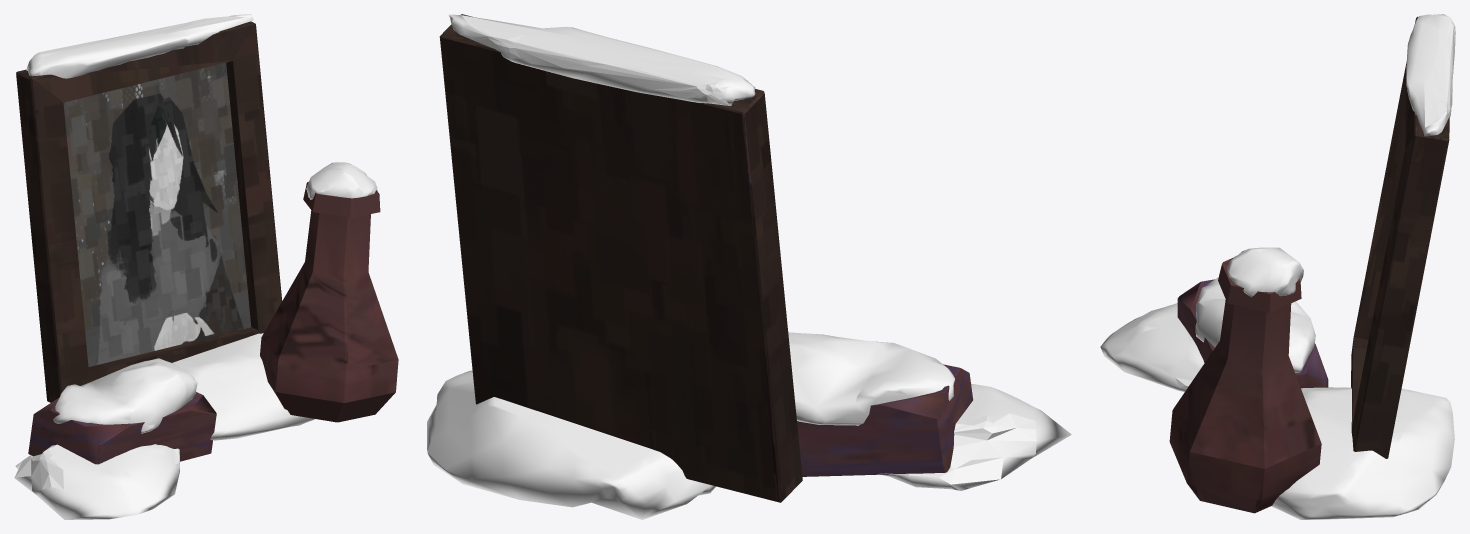
Rendered from mesh cadre tombe.fbx.
3 renders of one model, left to right at view 1: azimuth 30°, elevation 25°; view 2: azimuth 150°, elevation 25°; view 3: azimuth 270°, elevation 25°, orthographic. The views are drawn at different scales.
Visible parts, largest first — view 1: pCube1, pCylinder1, polySurface6, polySurface5, pCube2, polySurface3, polySurface4, polySurface1; view 2: pCube1, polySurface5, polySurface4, pCube2, polySurface3, polySurface6; view 3: pCylinder1, pCube1, polySurface5, polySurface6, polySurface4, polySurface1, polySurface3, pCube2.
Boxes of the visible parts, x1=… form: pCube1: x1=16, y1=21, x2=282, y2=402; pCylinder1: x1=260, y1=182, x2=398, y2=422; polySurface6: x1=14, y1=444, x2=179, y2=519; polySurface5: x1=172, y1=333, x2=314, y2=440; pCube2: x1=28, y1=392, x2=216, y2=464; polySurface3: x1=53, y1=358, x2=197, y2=433; polySurface4: x1=26, y1=14, x2=253, y2=78; polySurface1: x1=306, y1=162, x2=377, y2=199; pCube1: x1=439, y1=14, x2=802, y2=502; polySurface5: x1=427, y1=370, x2=715, y2=519; polySurface4: x1=449, y1=14, x2=755, y2=105; pCube2: x1=797, y1=364, x2=973, y2=476; polySurface3: x1=788, y1=332, x2=954, y2=425; polySurface6: x1=879, y1=383, x2=1071, y2=490; pCylinder1: x1=1169, y1=257, x2=1321, y2=513; pCube1: x1=1351, y1=16, x2=1449, y2=458; polySurface5: x1=1271, y1=387, x2=1454, y2=519; polySurface6: x1=1100, y1=303, x2=1204, y2=391; polySurface4: x1=1406, y1=14, x2=1455, y2=136; polySurface1: x1=1227, y1=247, x2=1303, y2=297; polySurface3: x1=1195, y1=277, x2=1315, y2=372; pCube2: x1=1177, y1=279, x2=1328, y2=388.
Size of the model in its own units: 10.52 by 9.21 by 7.79.
Materials: 1 (1 with a texture image).
